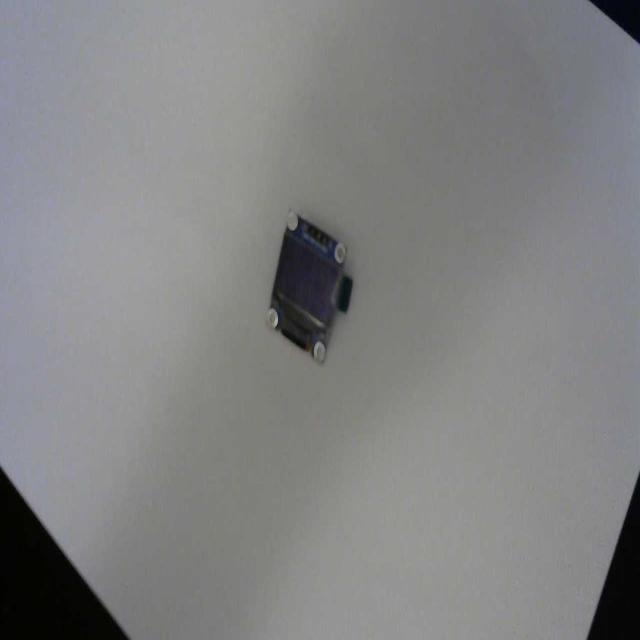oled: (260, 208, 358, 364)
